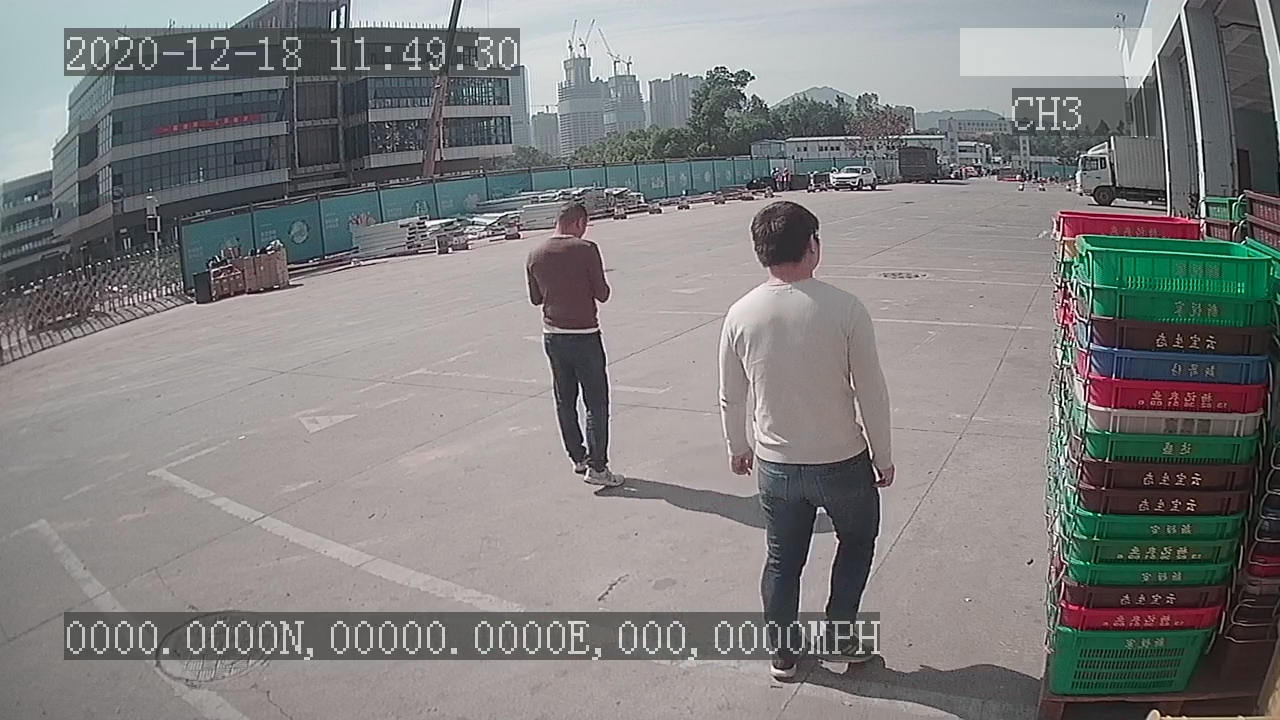person: (520, 199, 626, 494)
